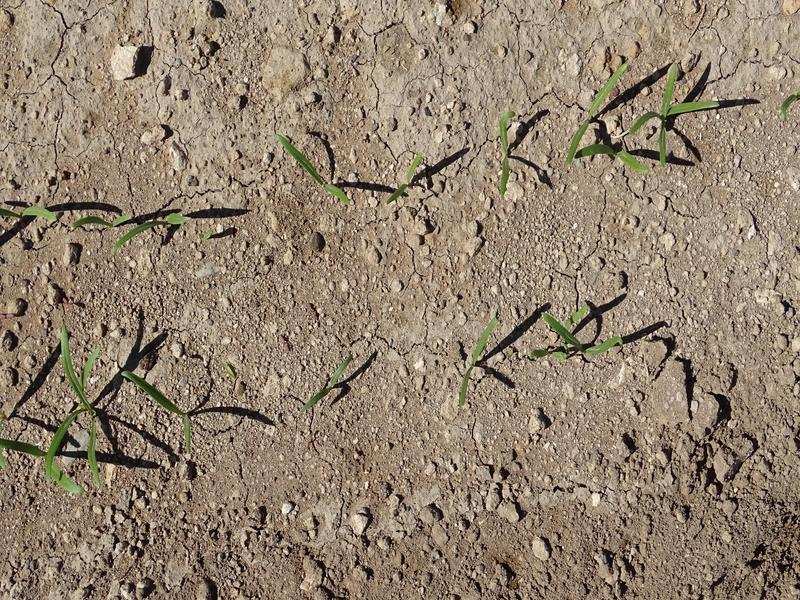Espinaca: (572, 64, 717, 175), (44, 330, 121, 498), (123, 366, 202, 452), (271, 137, 354, 210), (531, 299, 619, 366), (73, 207, 195, 244), (451, 318, 500, 404), (496, 108, 519, 197), (386, 152, 423, 203)
